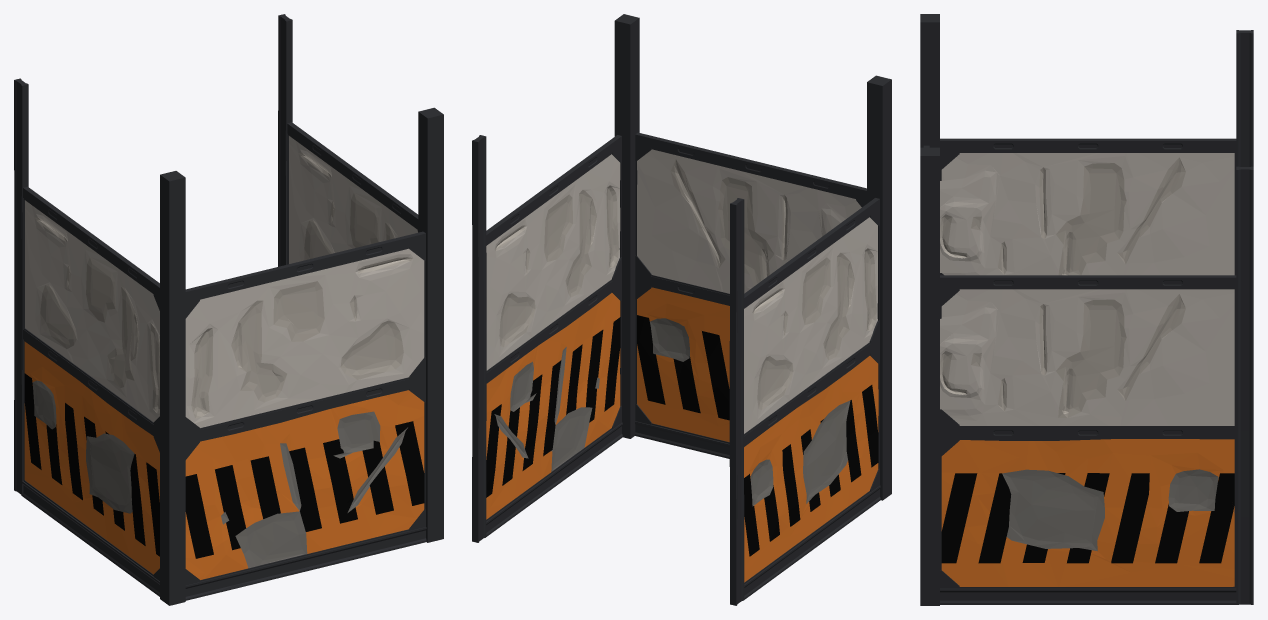
Rendered from SM_Wall_Angle_Broken_06.gltf.
3 renders of one model, left to right at view 1: azimuth 30°, elevation 25°; view 2: azimuth 150°, elevation 25°; view 3: azimuth 270°, elevation 25°, orthographic. The views are drawn at different scales.
Parts seen in each view (by area): view 1: SM_Wall_Angle_Broken_06; view 2: SM_Wall_Angle_Broken_06; view 3: SM_Wall_Angle_Broken_06.
Part boxes in pixels (x1,y1,x2,y2): SM_Wall_Angle_Broken_06: [14, 14, 443, 605]; SM_Wall_Angle_Broken_06: [472, 14, 891, 605]; SM_Wall_Angle_Broken_06: [920, 14, 1253, 605].
Bounding box in the file's own units: 2.03 × 3 × 2.01.
